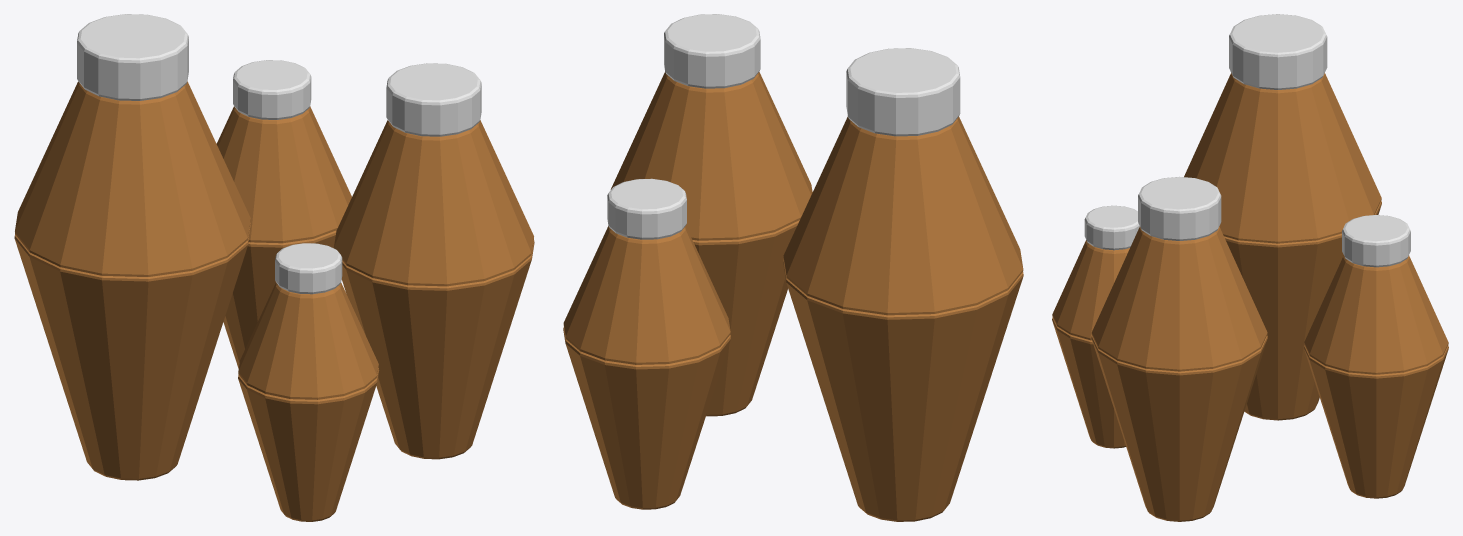
Rendered from mesopotamia_jars.fbx.
The picture shows the model from 3 angles, left to right: view 1: azimuth 30°, elevation 25°; view 2: azimuth 150°, elevation 25°; view 3: azimuth 270°, elevation 25°; orthographic projection. The views are drawn at different scales.
Parts seen in each view (by area): view 1: mesopotamia_jars; view 2: mesopotamia_jars; view 3: mesopotamia_jars.
Part boxes in pixels (x1,y1,x2,y2): mesopotamia_jars: (14, 14, 534, 521); mesopotamia_jars: (563, 14, 1023, 521); mesopotamia_jars: (1052, 14, 1448, 521).
Size of the model in its own units: 1.34 by 1.25 by 1.21.
